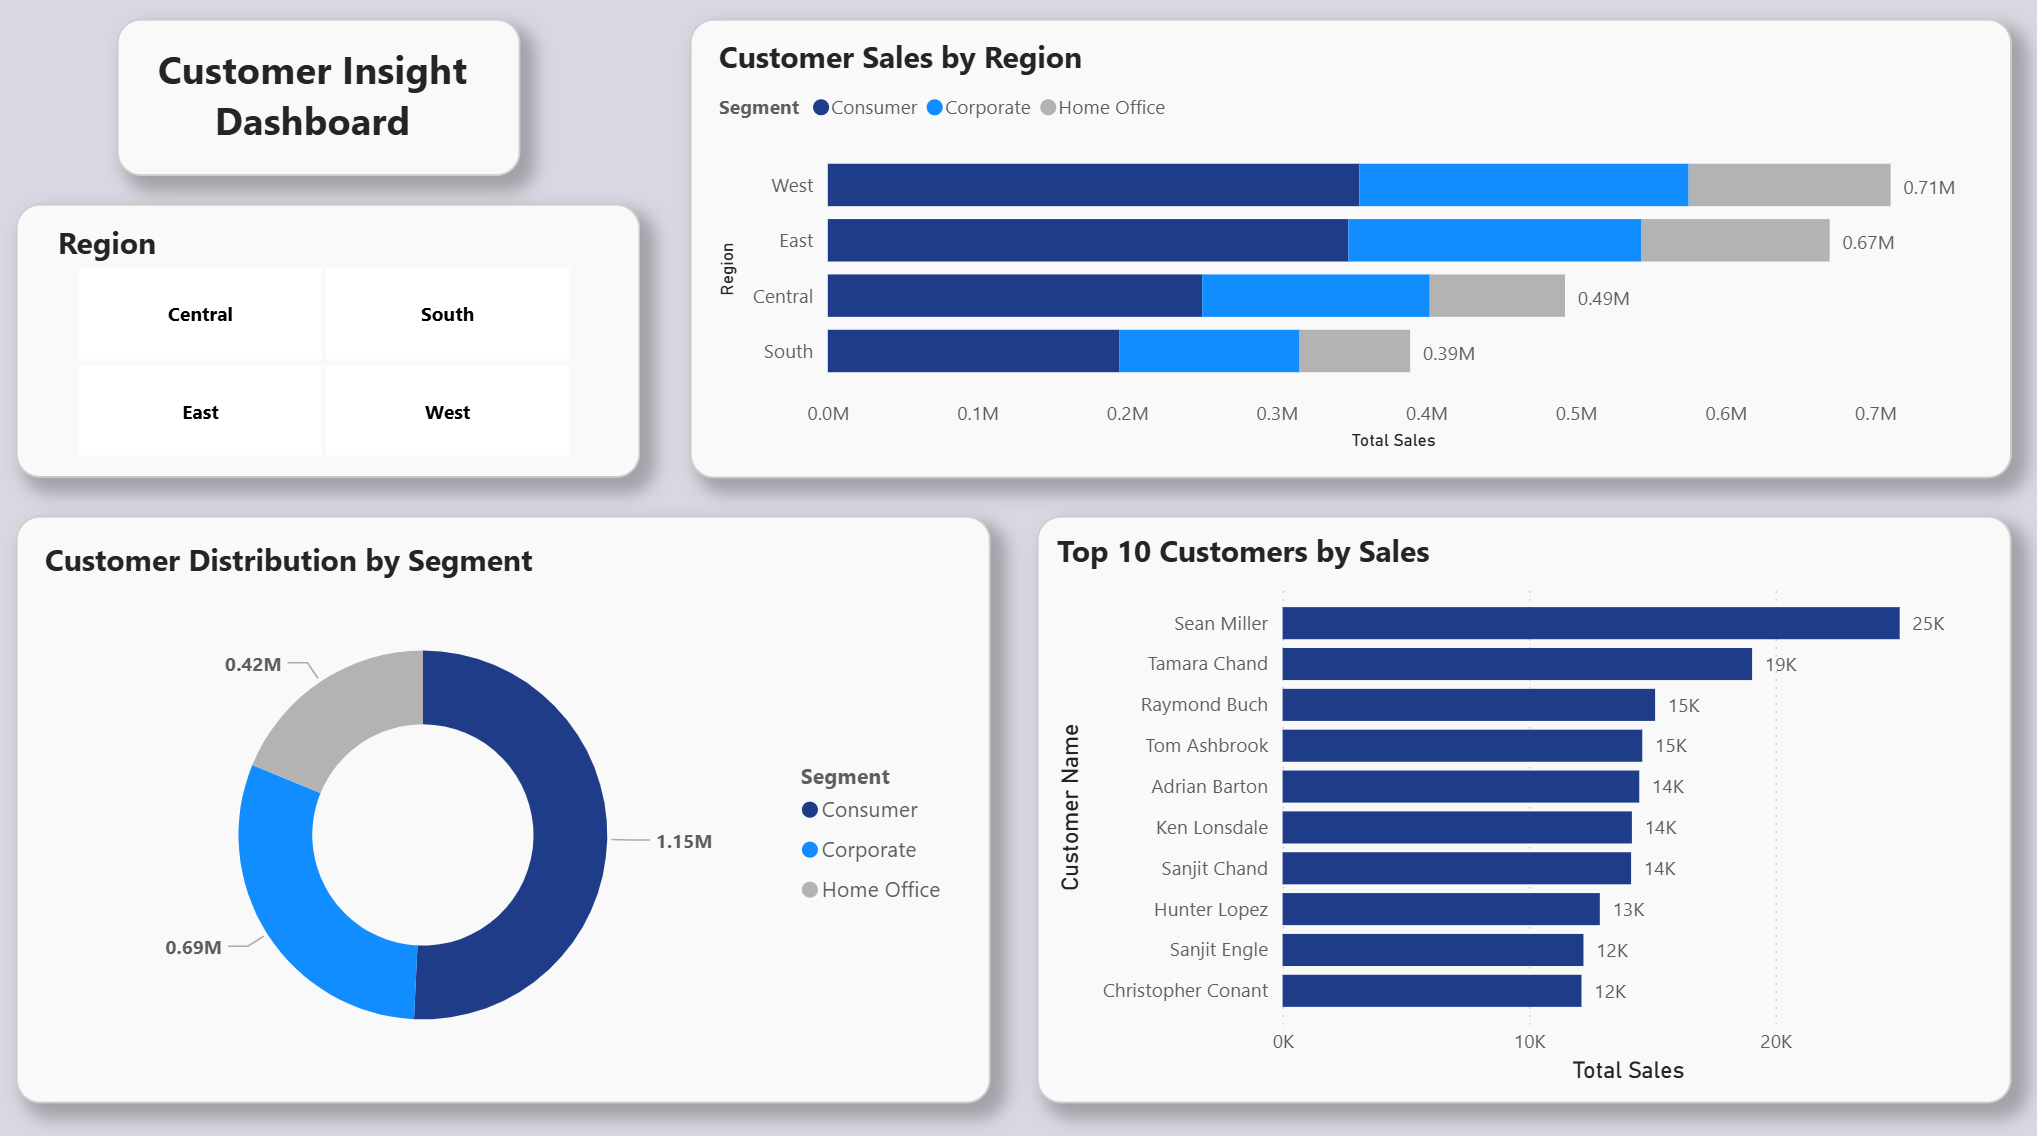

The page's visual inventory and layout, read from the dashboard file:
{"tool":"powerbi","page":{"name":"Customer Analysis","canvas":[1280,720],"ordinal":3},"visuals":[{"type":"shape","box":[0,0,1279.8,720],"z":0},{"type":"shape","box":[433.8,15,826.2,286.9],"z":1000},{"type":"shape","box":[12.5,325.6,609.4,366.9],"z":2000},{"type":"shape","box":[650.6,325.6,609.4,366.9],"z":3000},{"type":"shape","box":[75.6,15,251.9,97.5],"z":4000},{"type":"clusteredBarChart","title":"Top 10 Customers by Sales","fields":{"Y":["public dim_customers.Total Sales"],"Category":["public dim_customers.customer_name"]},"box":[658.1,334.4,593.1,350.6],"z":5000},{"type":"donutChart","title":"Customer Distribution by Segment","fields":{"Category":["public dim_customers.segment"],"Y":["public dim_customers.Total Sales"]},"box":[25.6,340,579.4,345],"z":6000},{"type":"barChart","title":"Customer Sales by Region","fields":{"Category":["public dim_locations.region"],"Y":["public dim_customers.Total Sales"],"Series":["public dim_customers.segment"]},"box":[446.9,25.6,799.4,263.1],"z":7000},{"type":"textbox","box":[40.6,24.4,314.4,88.1],"z":8000},{"type":"shape","box":[12.5,130.6,390,171.2],"z":9000},{"type":"slicer","fields":{"Values":["public dim_locations.region"]},"box":[25.6,136.9,356.9,158.1],"z":10000}]}

Visuals, with their boxes in screenshot pixels (x1, y1, x2, y2), scaled from the page's 1280x720 canvas onto the 2037x1136 screenshot:
shape: 0, 0, 2036, 1135
shape: 690, 24, 2005, 476
shape: 20, 514, 990, 1093
shape: 1035, 514, 2005, 1093
shape: 120, 24, 521, 178
"Top 10 Customers by Sales" clusteredBarChart: 1047, 528, 1991, 1081
"Customer Distribution by Segment" donutChart: 41, 536, 963, 1081
"Customer Sales by Region" barChart: 711, 40, 1983, 456
textbox: 65, 38, 565, 178
shape: 20, 206, 641, 476
slicer - public dim_locations.region: 41, 216, 609, 465
